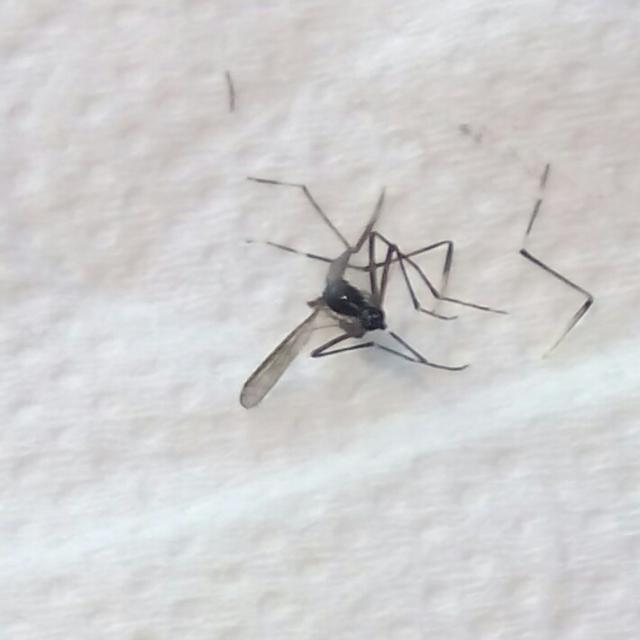albopictus: (223, 157, 514, 400)
